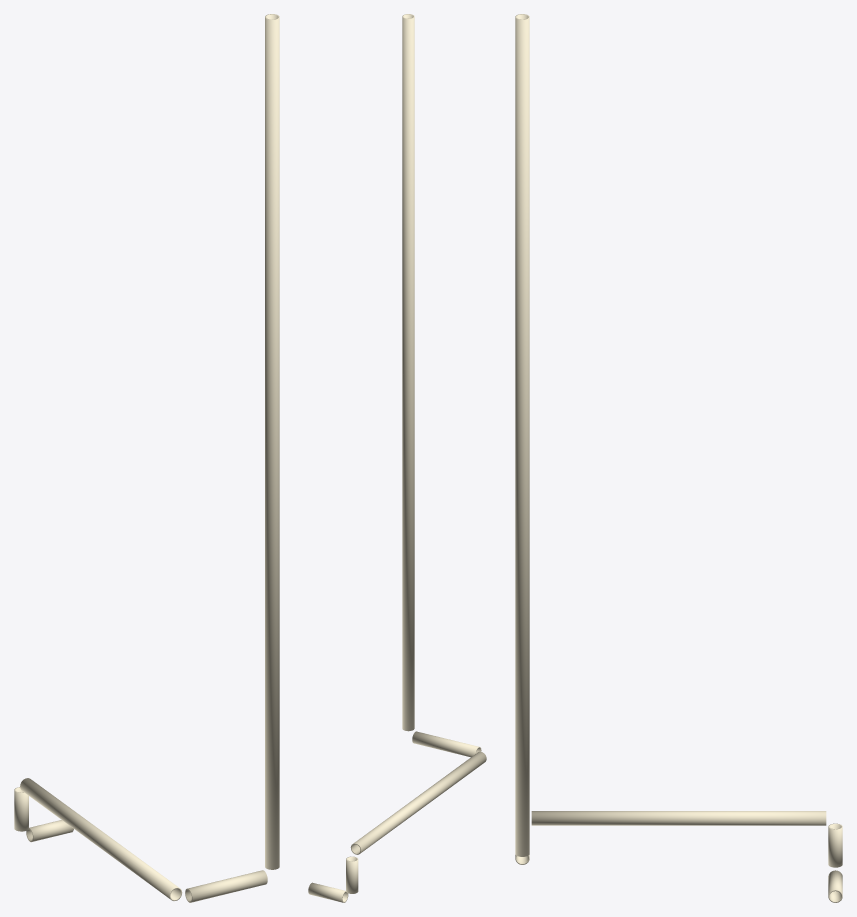
Rendered from pipes_supply__softener-yes_and_plumbing-cpvc__r4t.glb.
The picture shows the model from 3 angles, left to right: view 1: azimuth 30°, elevation 25°; view 2: azimuth 150°, elevation 25°; view 3: azimuth 270°, elevation 25°; orthographic projection. The views are drawn at different scales.
Visible parts, largest first — view 1: pipe_supply_softener_feed; view 2: pipe_supply_softener_feed; view 3: pipe_supply_softener_feed.
Part boxes in pixels (x1,y1,x2,y2): pipe_supply_softener_feed: (14,14,279,902); pipe_supply_softener_feed: (308,14,486,902); pipe_supply_softener_feed: (515,14,842,902).
Bounding box in the file's own units: 0.1821 × 1.53 × 0.5022.
